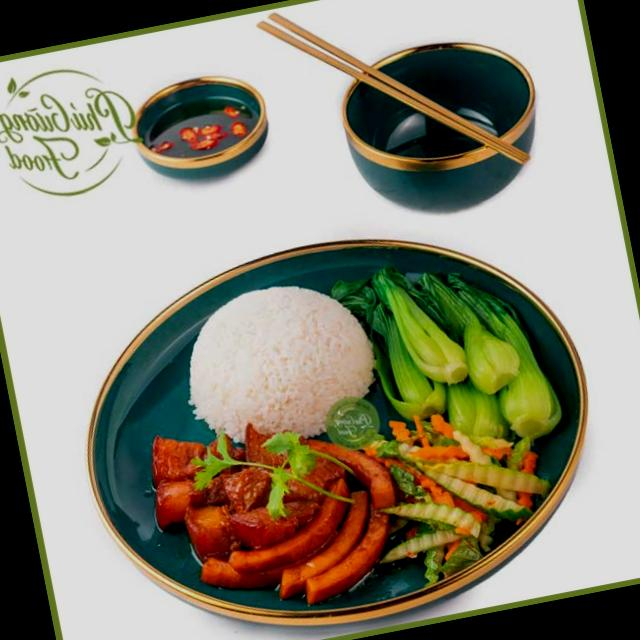com: (190, 286, 374, 441)
kho trung: (153, 424, 397, 604)
ot: (162, 106, 256, 154), (149, 139, 187, 157)
rau: (332, 267, 562, 445), (326, 409, 549, 581)
